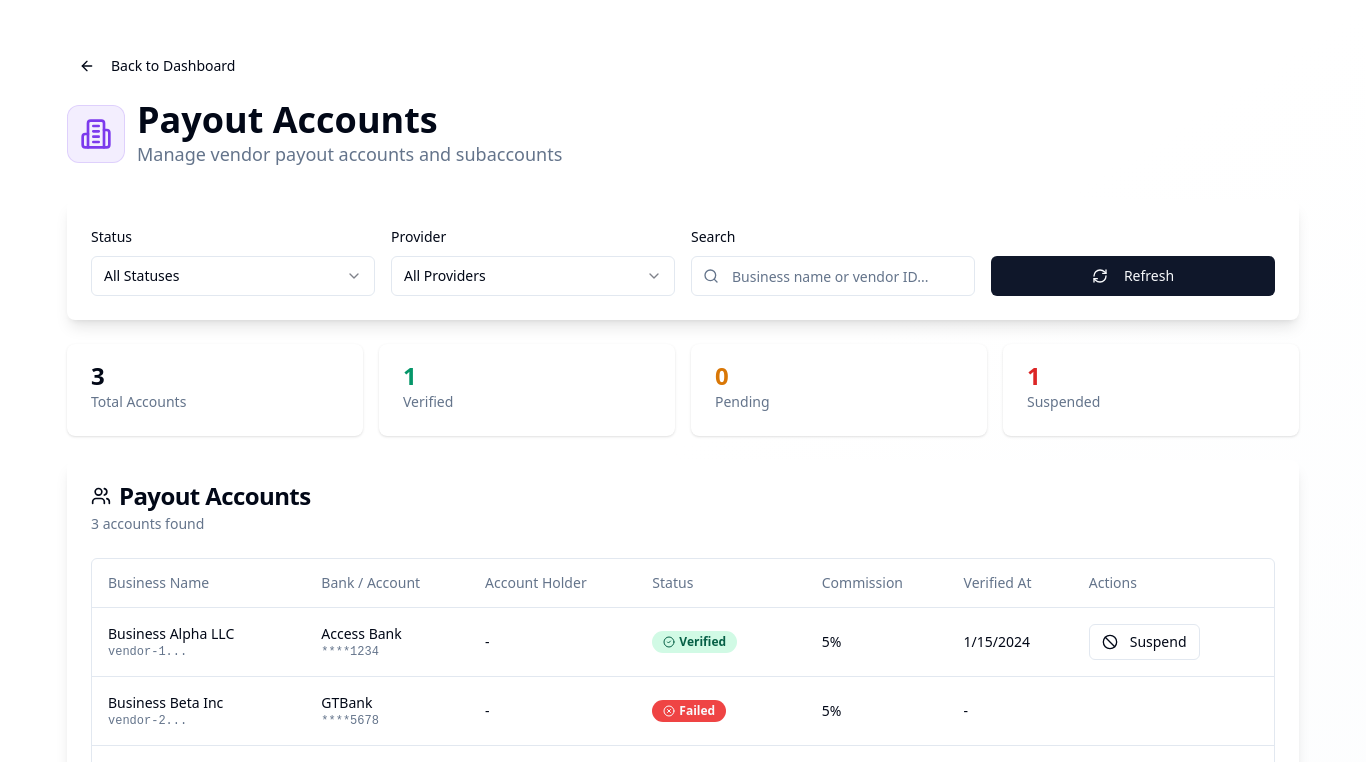
AdminPayoutAccounts › Filtering › filters accounts by status (verified)
The width and height of the screenshot is (1366, 762).
// Click filter dropdown and select "verified"
Step 1. Click the dropdown labelled "All Statuses" → coordinates (142, 276), box [91,256,375,296]
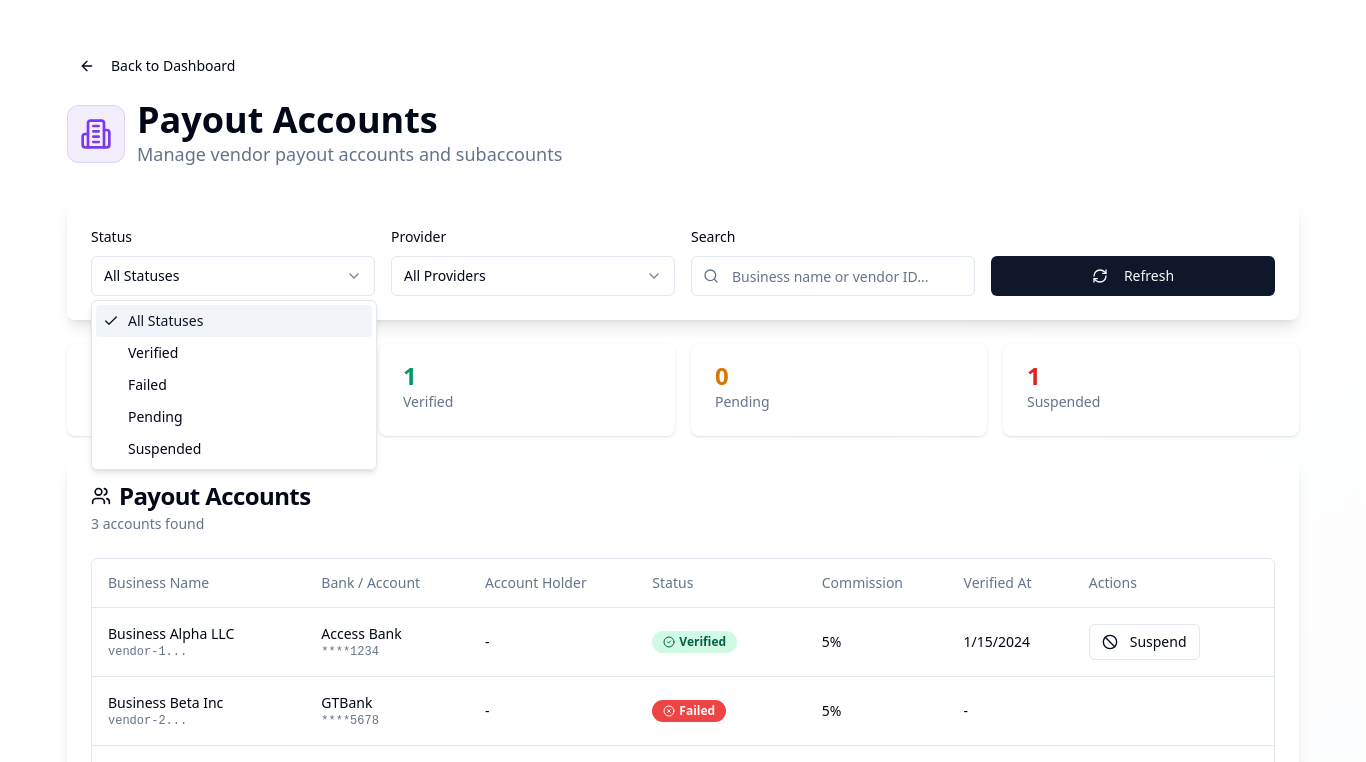
Step 2. Click the option "Verified" → coordinates (153, 352), box [128,343,178,362]
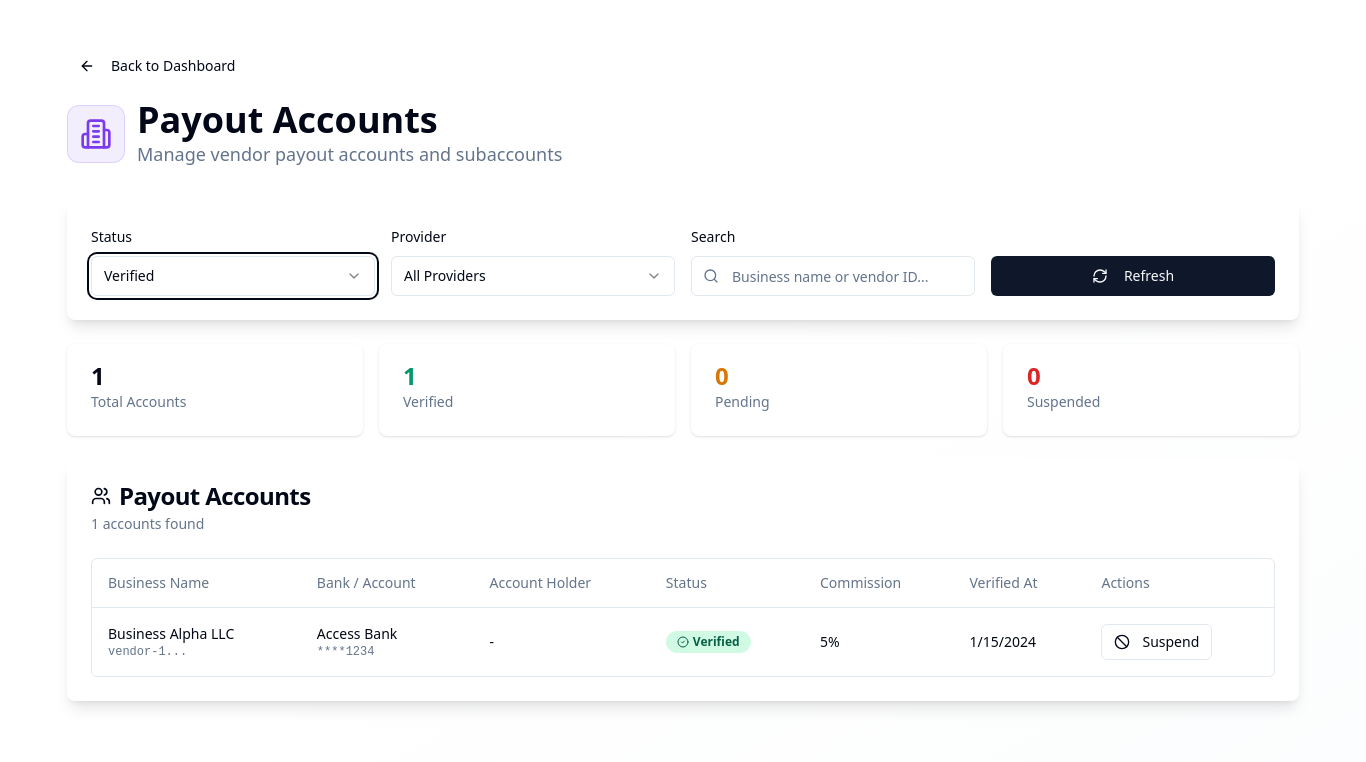
Expected: the text "Business Alpha LLC vendor-1..." is shown, [92,607,301,676]
Now the text "Business Beta Inc" is gone
